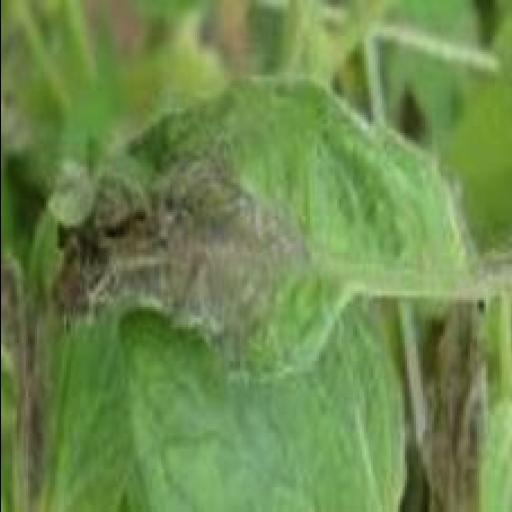disease_tomato: (38, 66, 478, 392)
